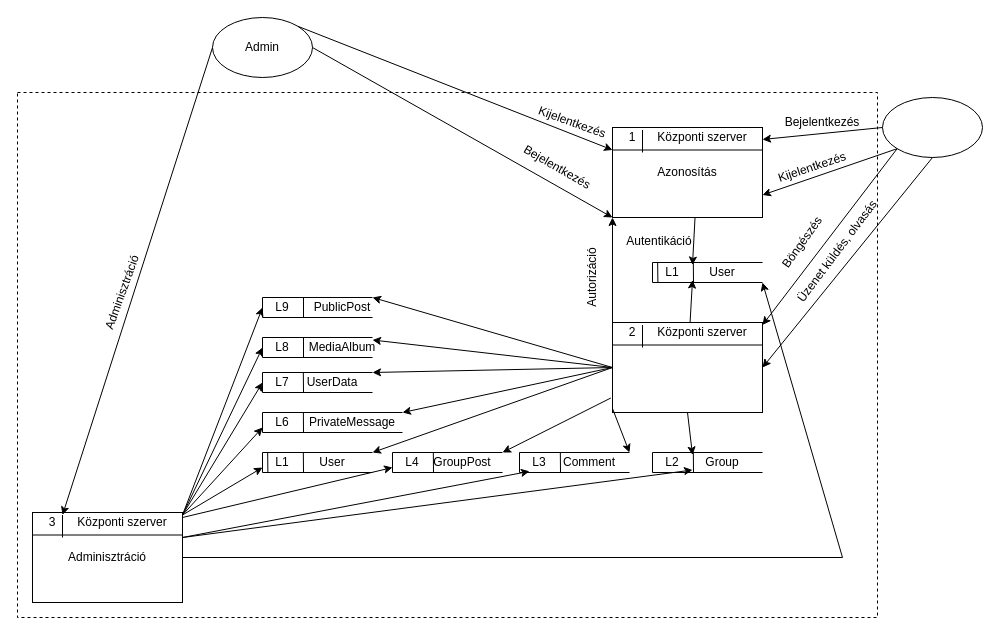
This 1000x635 diagram has some shape labels left out. The shapes that lost their labels are listed below. From the top down, each one's box as (x1, y1, x2, y2) in pixels, then its label:
(882, 96, 982, 158): felhasználó
(612, 322, 762, 412): Tartalmi szolgáltatás
